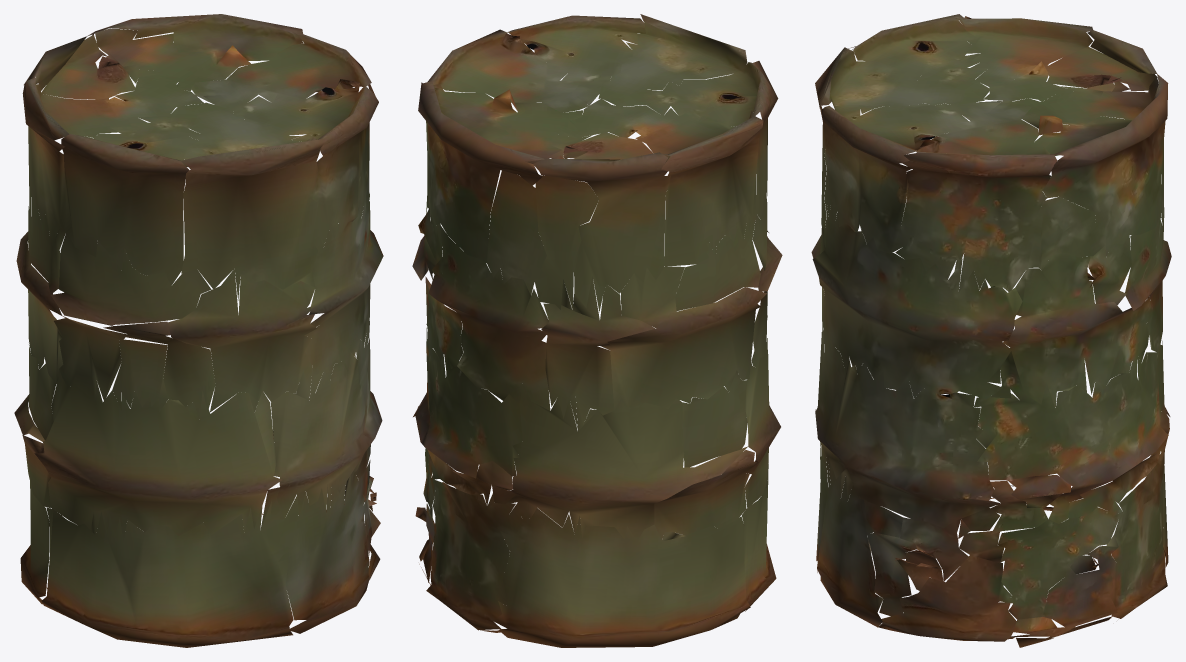
The model's file is steel-drum.glb.
The picture shows the model from 3 angles, left to right: view 1: azimuth 30°, elevation 25°; view 2: azimuth 150°, elevation 25°; view 3: azimuth 270°, elevation 25°; orthographic projection.
Visible parts, largest first — view 1: steel_drum; view 2: steel_drum; view 3: steel_drum.
Part boxes in pixels (x1,y1,x2,y2): steel_drum: (14, 14, 383, 647); steel_drum: (412, 14, 782, 647); steel_drum: (811, 14, 1171, 647).
Bounding box in the file's own units: 0.6162 × 0.9003 × 0.5957.
Materials: 1 (1 with a texture image).
